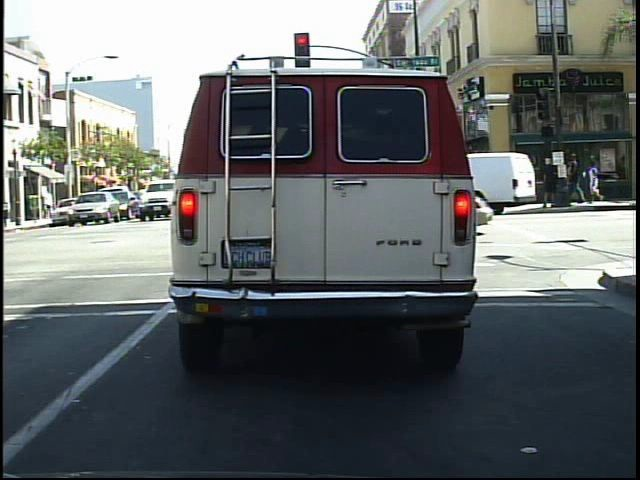person: (565, 146, 588, 211), (537, 154, 562, 212), (585, 156, 610, 207), (516, 156, 538, 209)
